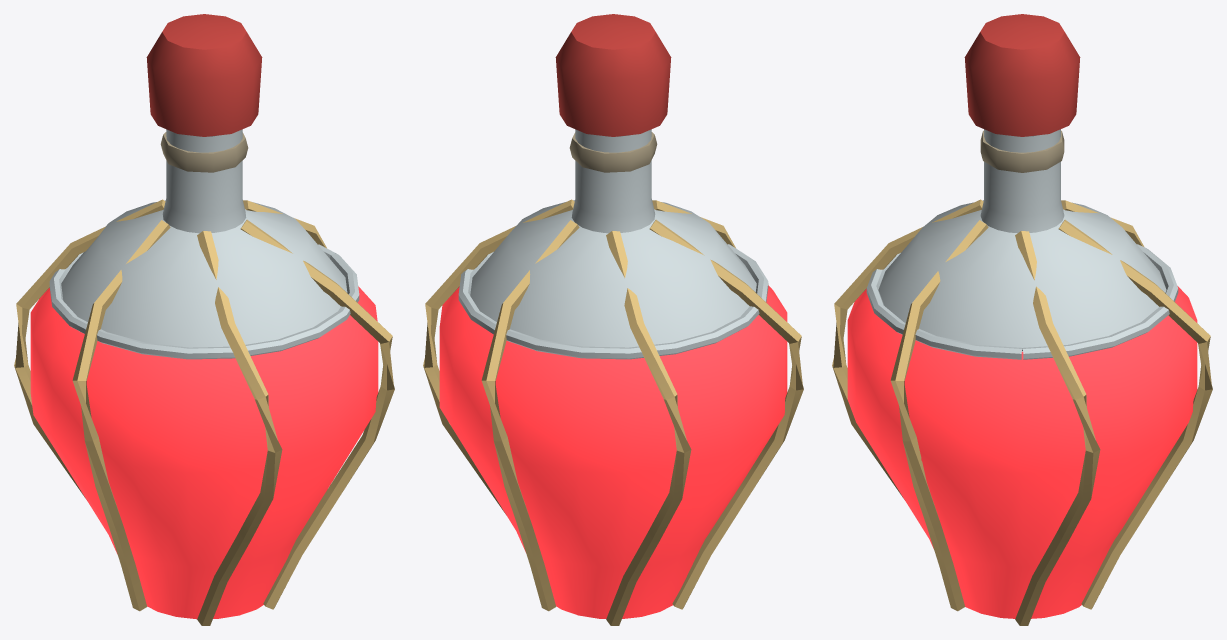
Rendered from greater_health_potion.glb.
The picture shows the model from 3 angles, left to right: view 1: azimuth 30°, elevation 25°; view 2: azimuth 150°, elevation 25°; view 3: azimuth 270°, elevation 25°; orthographic projection.
Parts seen in each view (by area): view 1: greater_health_potion; view 2: greater_health_potion; view 3: greater_health_potion.
Boxes of the visible parts, x1=… form: greater_health_potion: x1=14, y1=14, x2=394, y2=625; greater_health_potion: x1=423, y1=14, x2=803, y2=625; greater_health_potion: x1=832, y1=14, x2=1212, y2=625.
Bounding box in the file's own units: 0.1045 × 0.1789 × 0.1089.
